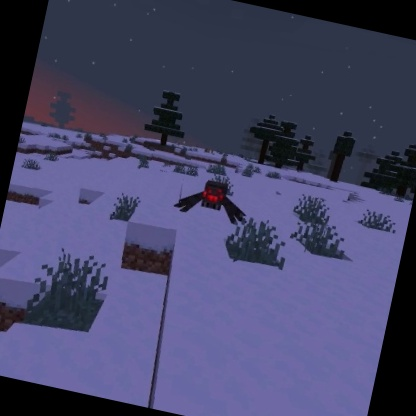spider: (168, 170, 254, 231)
